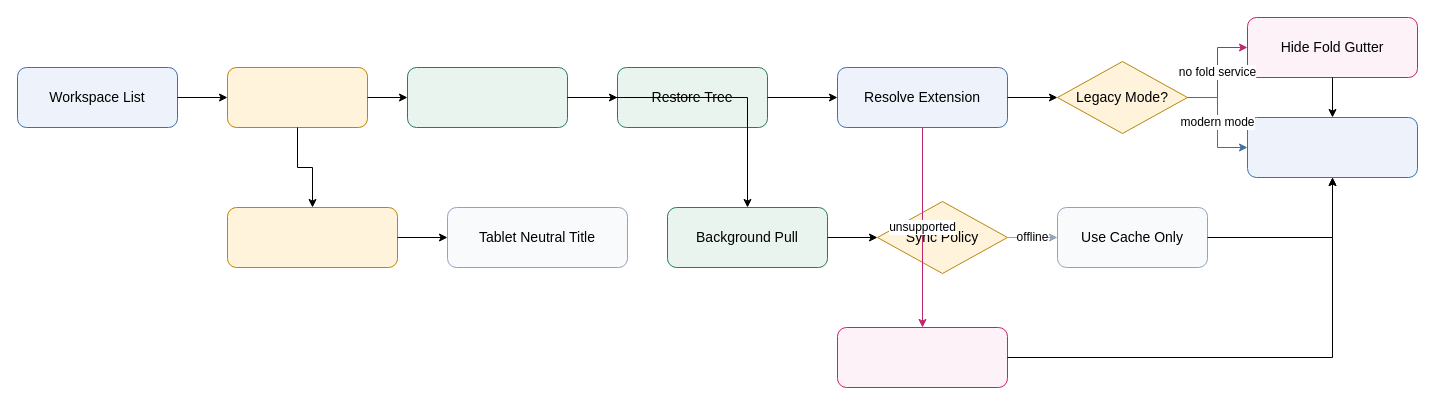
Image size: 1435x405. Some labels were removed from this diagram. Here are the shapes that lost their labels. From the top down, the centre of each, then its label:
(297,97): Tap Title
(487,97): Load Workspace
(1332,147): Render Editor
(312,237): Mobile Header Hint
(922,357): Plain Text Fallback
